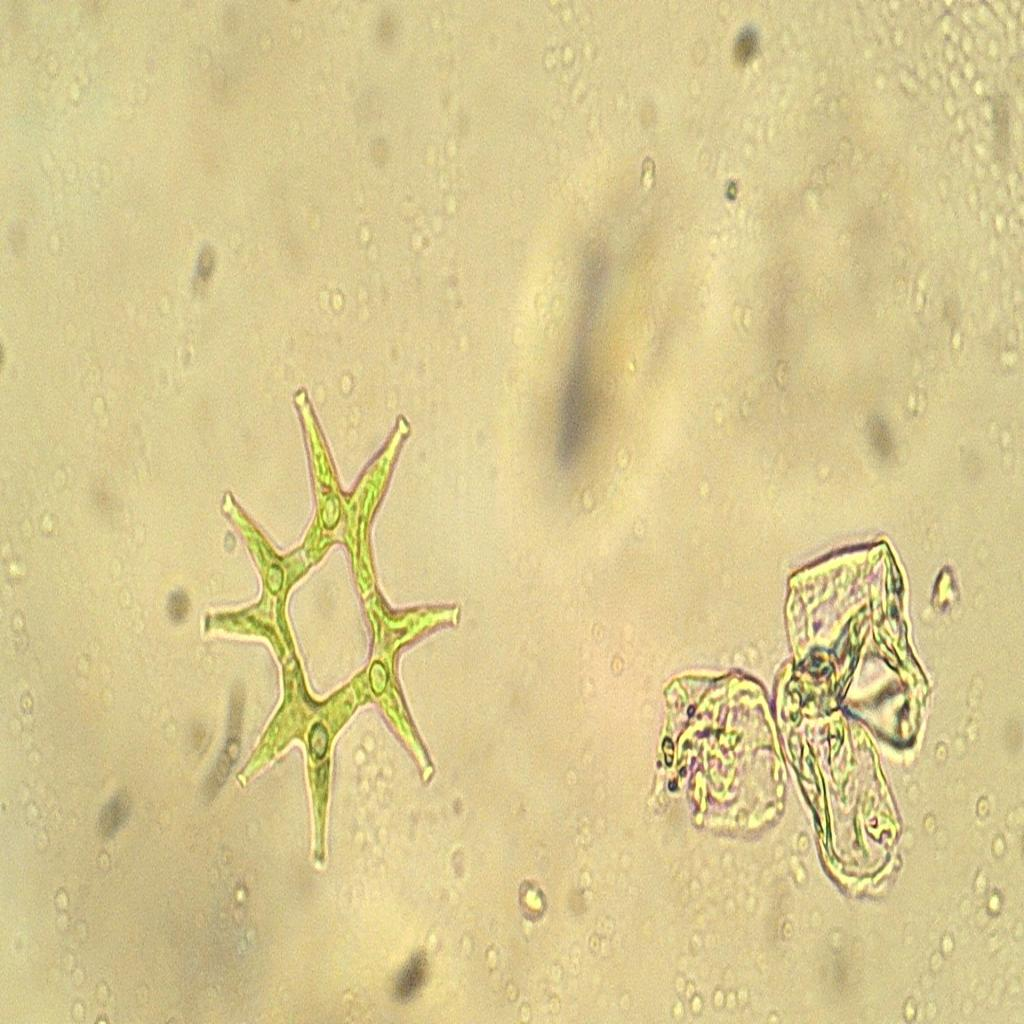Pediastrum_75O: (194, 366, 476, 884)
